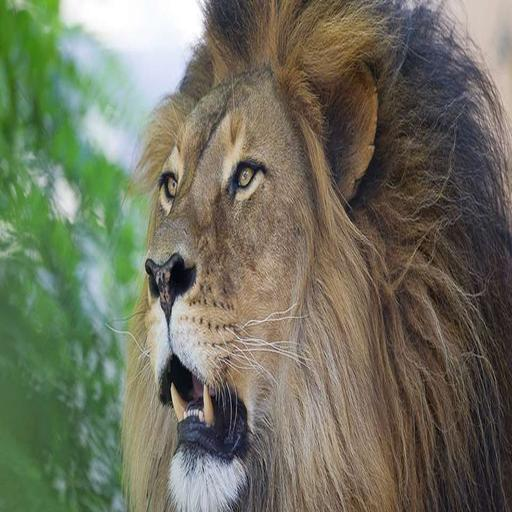Lion: (109, 0, 512, 512)
